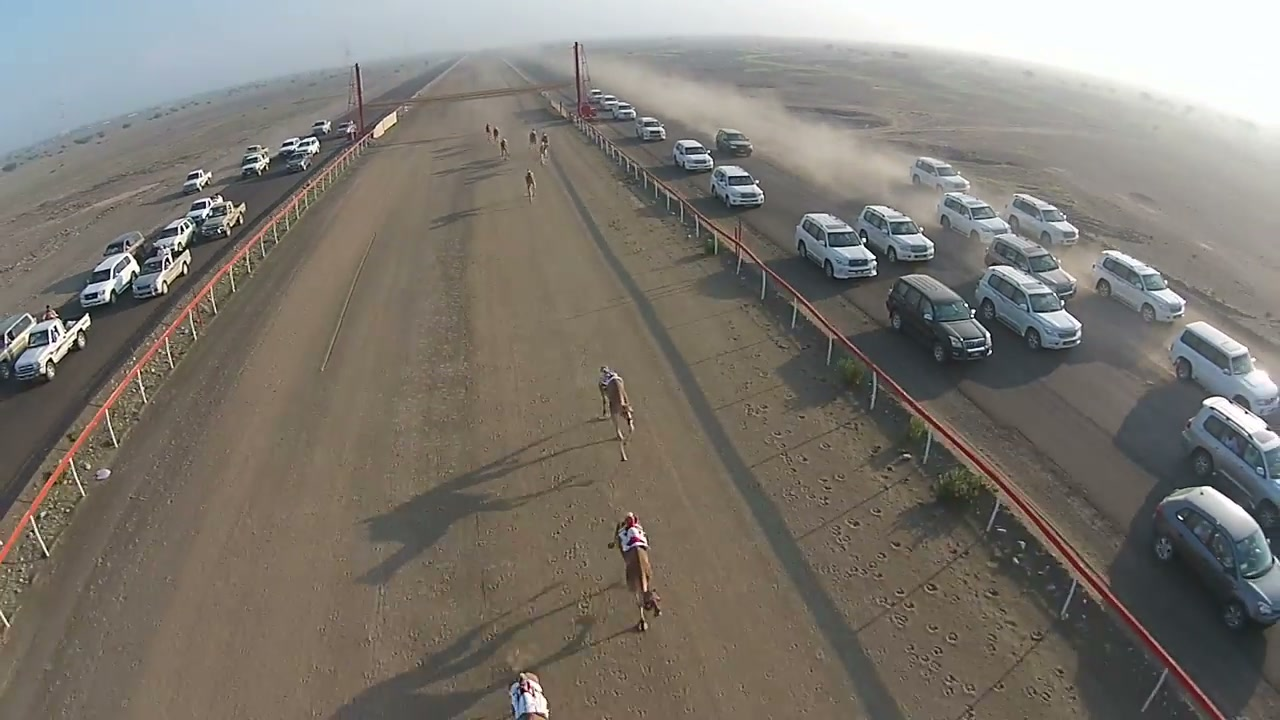animal_foot_print: (712, 358, 1022, 704)
